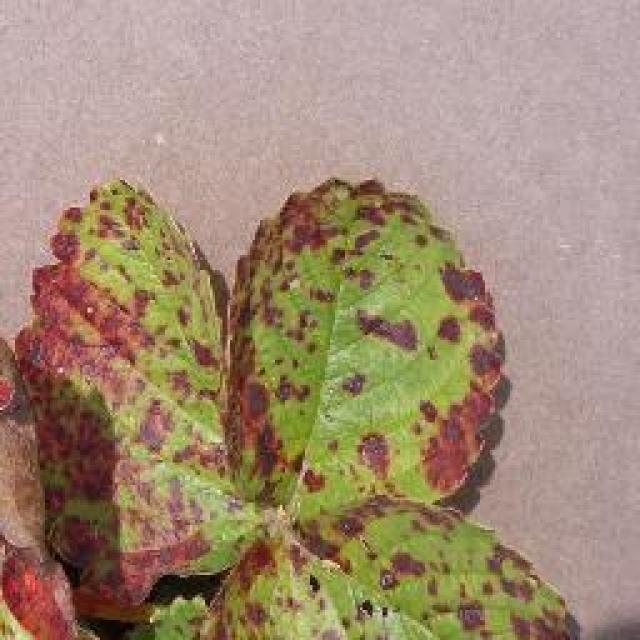Strawberry leaf scorch: (0, 251, 468, 581)
